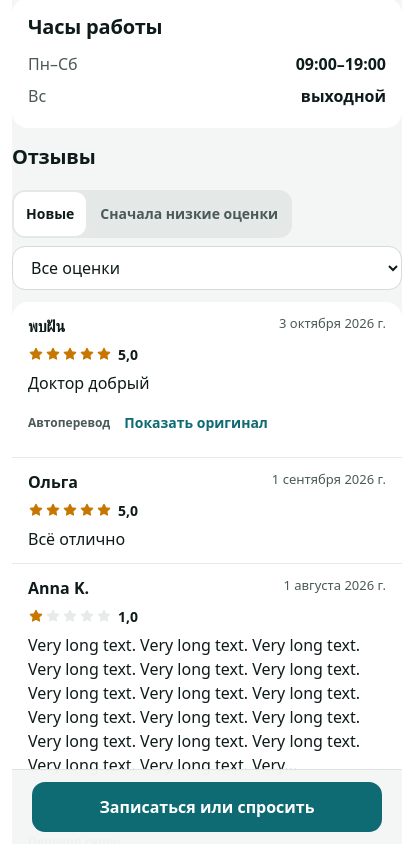
Test: VenueScreen › shows a translated review with «auto» label and toggles to the original
(page scrolled)
Check: the text "Автоперевод" is shown, box [28,414,110,432]
Check: the text "พบฝัน" is shown, box [28,314,65,338]
Click the button "Показать оригинал".
click(196, 423)  # box [120,401,272,445]
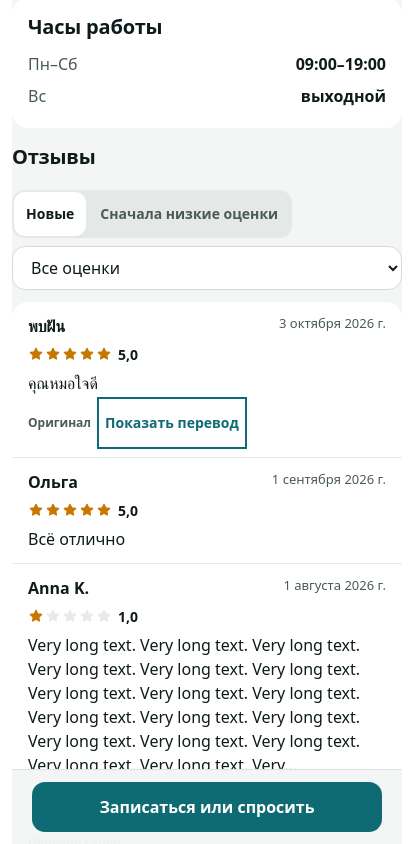
Check: the text "คุณหมอใจดี" is shown, box [28,372,98,394]
Click the button "Показать перевод".
click(172, 423)  # box [101,401,243,445]
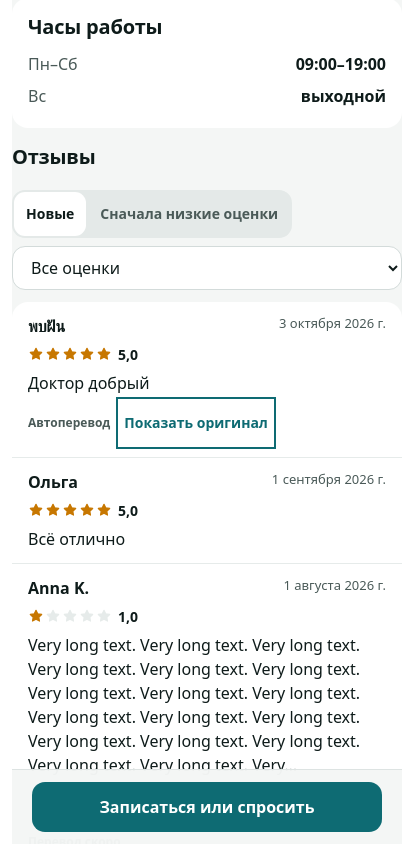
Check: the text "Доктор добрый" is shown, box [28,372,150,394]
